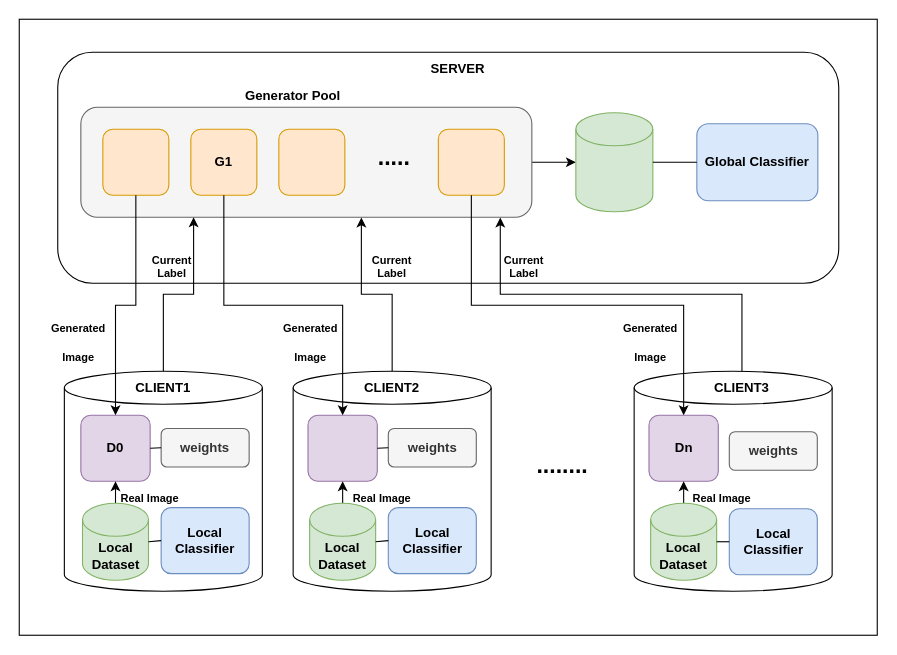
Some shapes in this 897 by 655 pixel diagram are drawn without their labels. Each missing label, with the centre of its shape:
D1: (342,447)
G0: (135,161)
G3: (311,161)
Global Classifier Dataset: (614,162)
Gn: (470,161)
